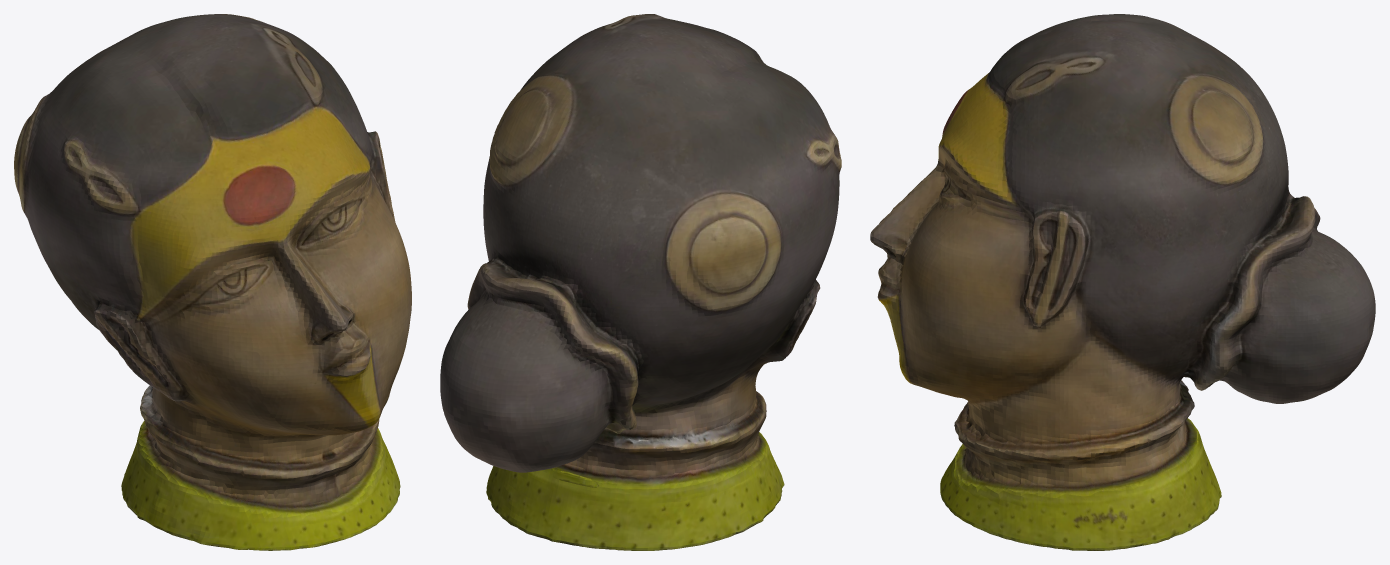
Rendered from female-head.glb.
3 renders of one model, left to right at view 1: azimuth 30°, elevation 25°; view 2: azimuth 150°, elevation 25°; view 3: azimuth 270°, elevation 25°, orthographic. The views are drawn at different scales.
Parts seen in each view (by area): view 1: 05_Female_Head_Final; view 2: 05_Female_Head_Final; view 3: 05_Female_Head_Final.
Boxes of the visible parts, bbox=[...] form: 05_Female_Head_Final: bbox=[14, 14, 411, 550]; 05_Female_Head_Final: bbox=[440, 14, 841, 550]; 05_Female_Head_Final: bbox=[870, 14, 1375, 550].
Bounding box in the file's own units: 0.3643 × 0.5 × 0.5156.
1 material, 1 textured.
